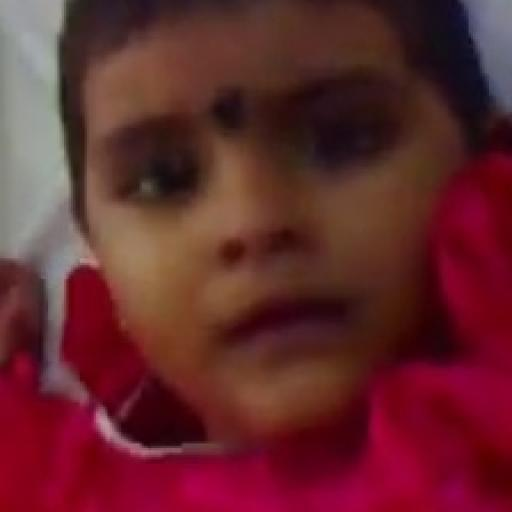Autism: (53, 12, 497, 456)
